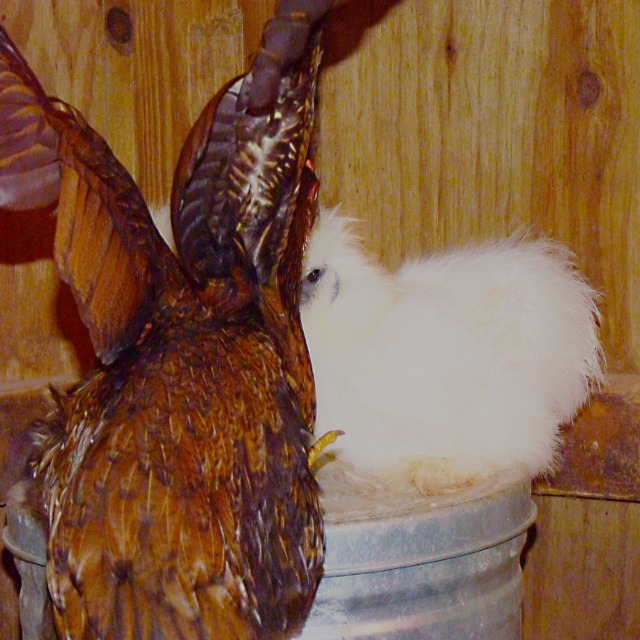Chicken: (0, 5, 345, 639)
